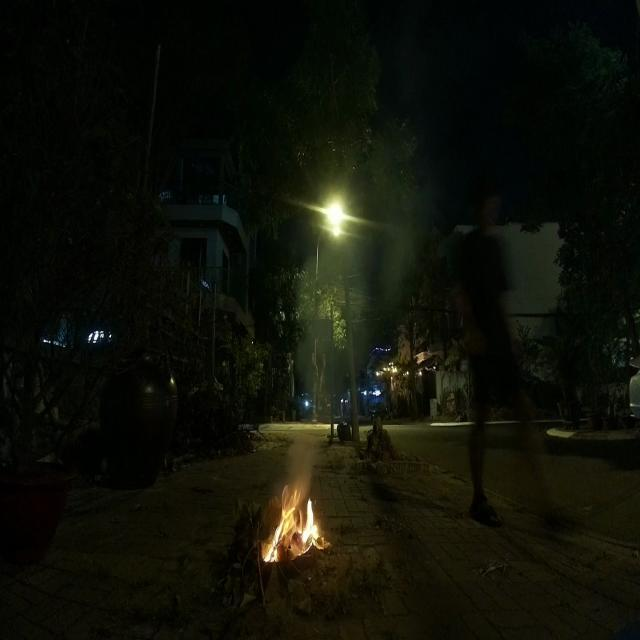Fire: (261, 485, 328, 567)
